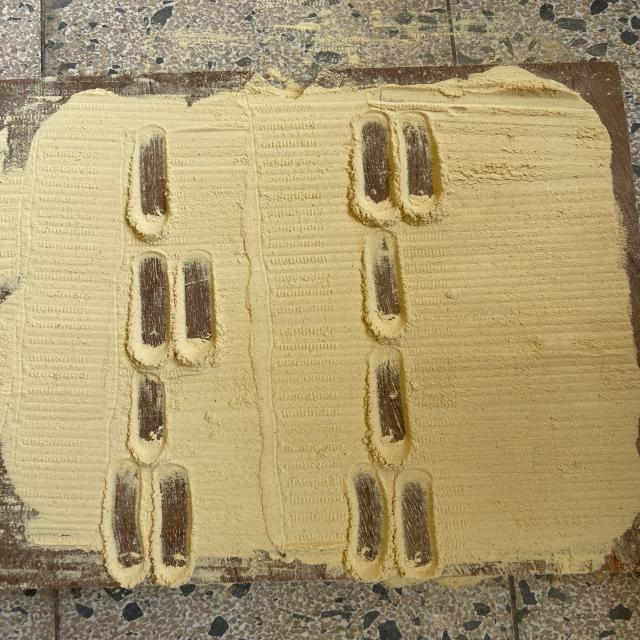double: (100, 460, 200, 585), (344, 110, 446, 223), (125, 248, 219, 368), (344, 470, 438, 578)
single: (363, 346, 415, 468), (359, 228, 411, 344), (124, 123, 174, 243), (124, 371, 170, 464)
